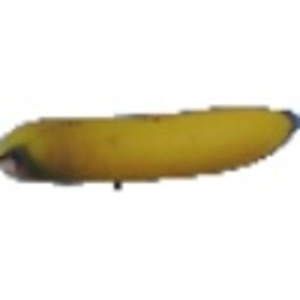banana: (3, 98, 288, 184)
